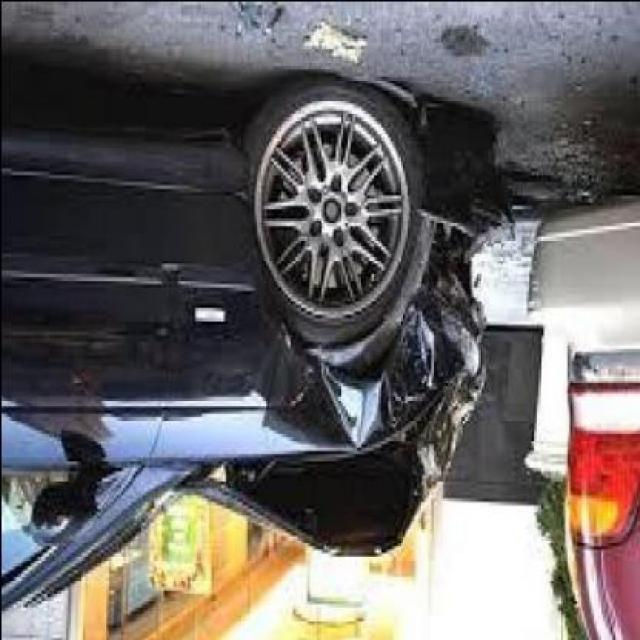damage: (175, 206, 486, 558)
